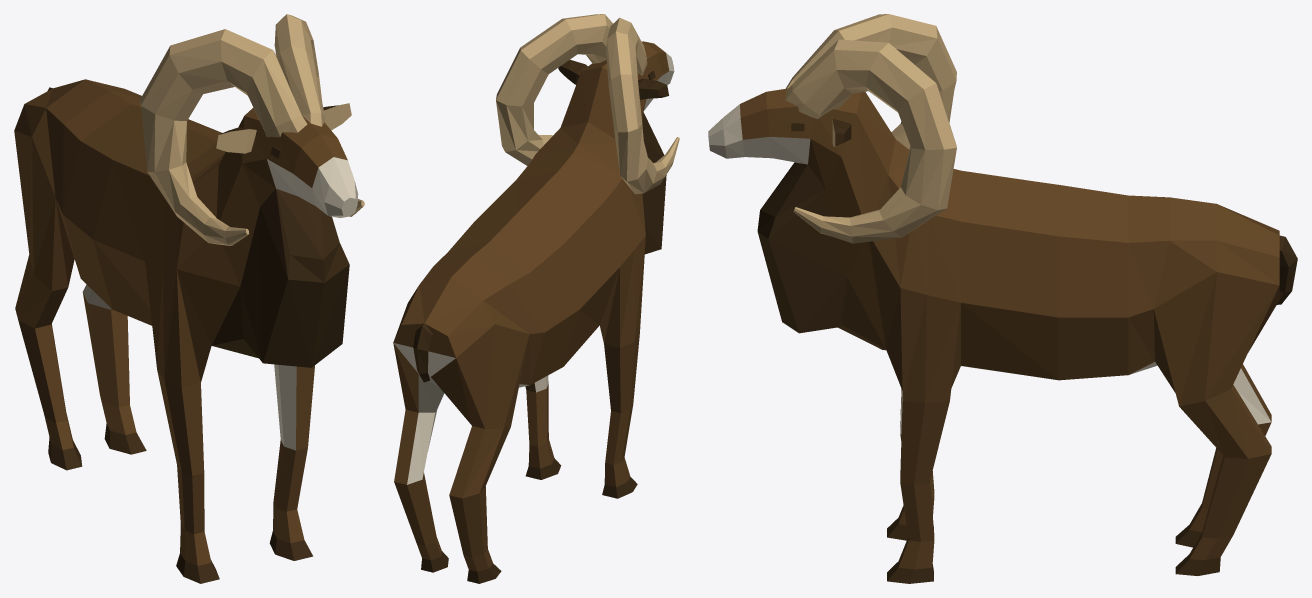
File: mouflon.glb
3 renders of one model, left to right at view 1: azimuth 30°, elevation 25°; view 2: azimuth 150°, elevation 25°; view 3: azimuth 270°, elevation 25°, orthographic. The views are drawn at different scales.
Visible parts, largest first — view 1: zoo-mouflon; view 2: zoo-mouflon; view 3: zoo-mouflon.
Part boxes in pixels (x1,y1,x2,y2): zoo-mouflon: (14,14,364,583); zoo-mouflon: (393,14,679,583); zoo-mouflon: (708,14,1297,583).
Size of the model in its own units: 0.3374 by 1.02 by 1.04.
